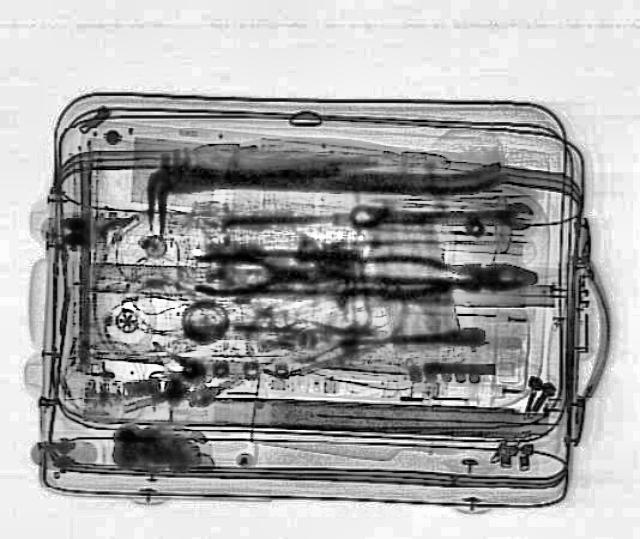Pliers: (349, 235, 537, 309), (192, 246, 322, 301)
Wrench: (350, 199, 534, 228)
